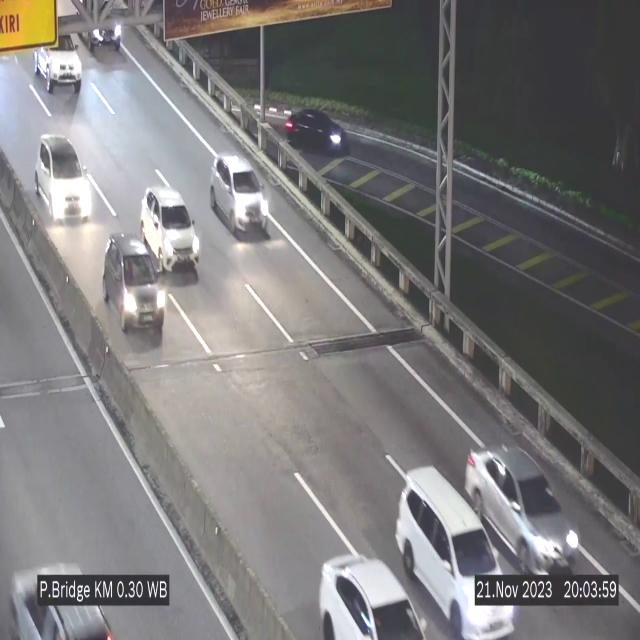Car: (395, 467, 515, 640), (465, 445, 581, 571), (1, 546, 120, 640), (309, 546, 427, 640), (98, 231, 168, 344), (140, 186, 200, 276), (24, 20, 88, 103), (210, 154, 269, 237), (35, 134, 89, 222), (281, 94, 353, 158), (77, 0, 125, 51)
